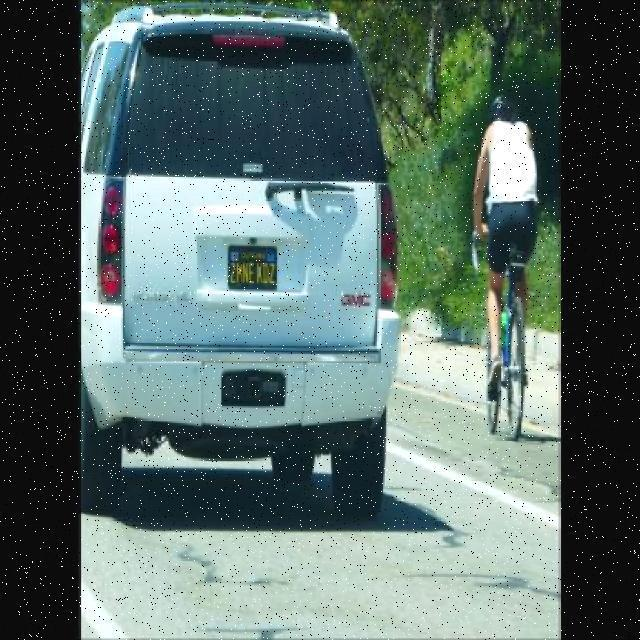LicensePlate: (227, 245, 278, 291)
